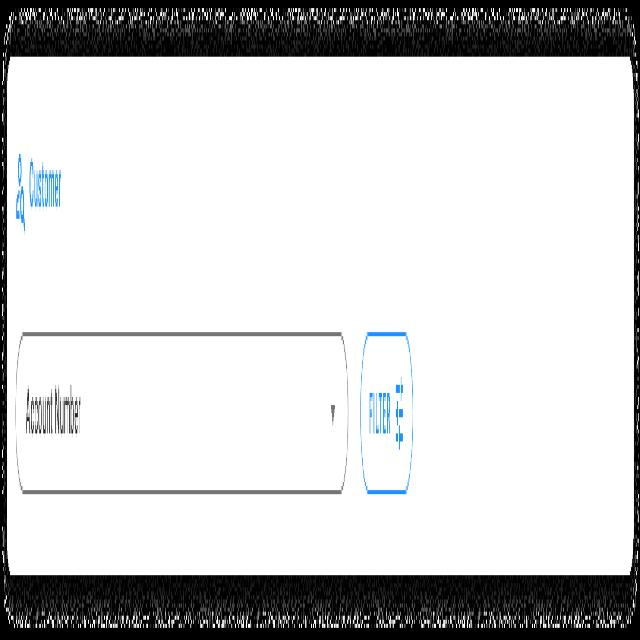QLabel: (28, 154, 62, 223), (366, 368, 392, 454)
VBtn: (360, 319, 414, 497)
VCard: (5, 44, 635, 592)
VCombobox: (16, 324, 348, 498)
VIcon: (394, 352, 405, 466), (14, 146, 26, 239)
